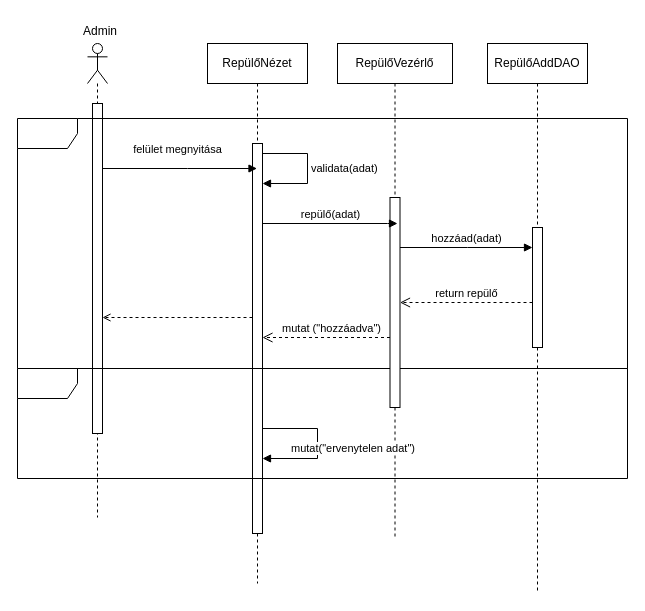
Some shapes in this 645 by 611 pixel diagram are drawn without their labels. Here are the shapes that lost their labels. From the top down, the box of each, then its label:
(16, 118, 628, 368): Valid
(16, 368, 628, 478): Invalid
